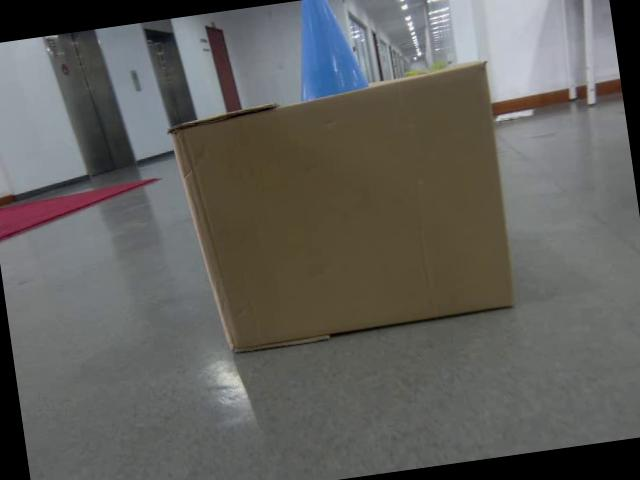blue_barrel: (285, 0, 371, 103)
